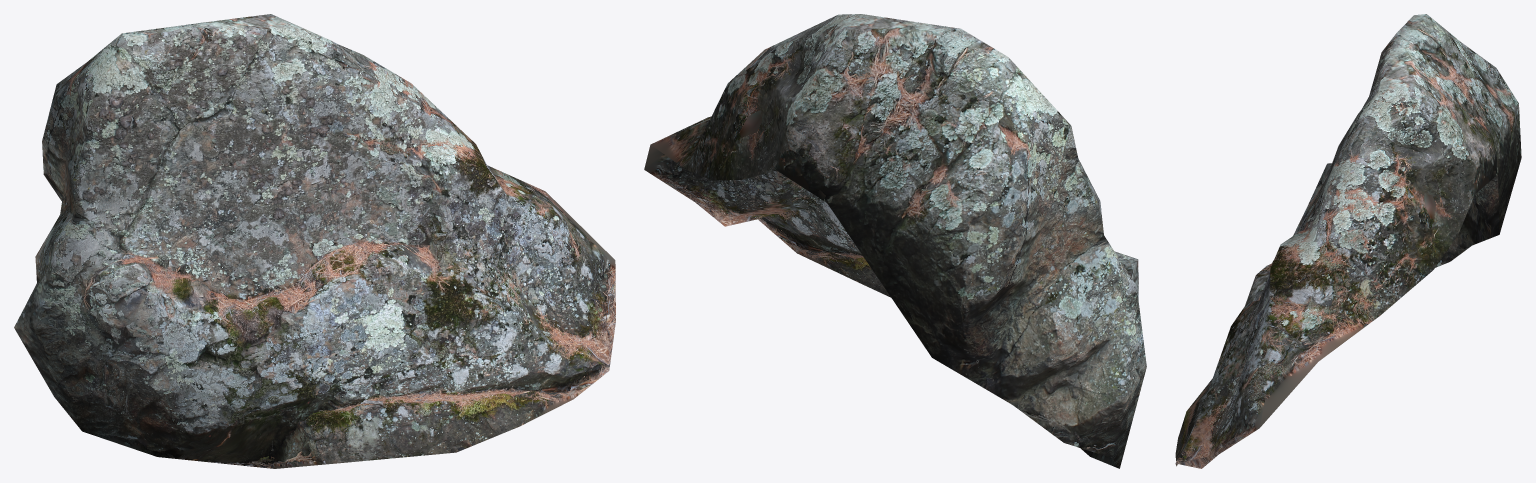
Rendered from Forest_stone_16.FBX.
3 renders of one model, left to right at view 1: azimuth 30°, elevation 25°; view 2: azimuth 150°, elevation 25°; view 3: azimuth 270°, elevation 25°, orthographic. The views are drawn at different scales.
Visible parts, largest first — view 1: Forest_stone_16; view 2: Forest_stone_16; view 3: Forest_stone_16.
Boxes of the visible parts, x1,y1,x2,y2 form: Forest_stone_16: (14,14,615,468); Forest_stone_16: (644,14,1146,468); Forest_stone_16: (1175,14,1521,468).
Size of the model in its own units: 12.16 by 8.85 by 7.84.
